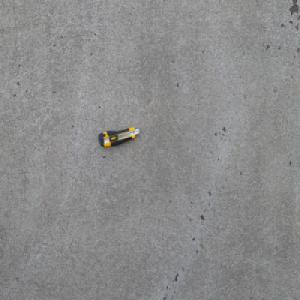Cutter: (97, 127, 139, 147)
